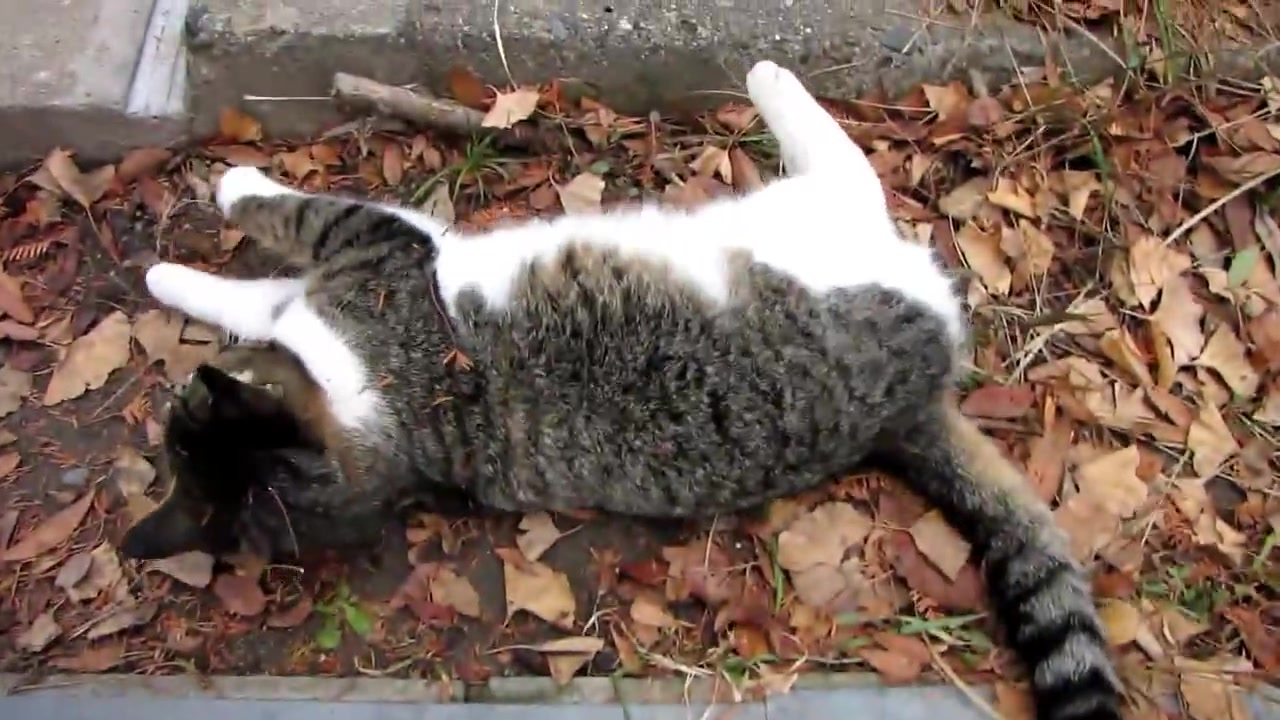cat: (114, 61, 1136, 720)
